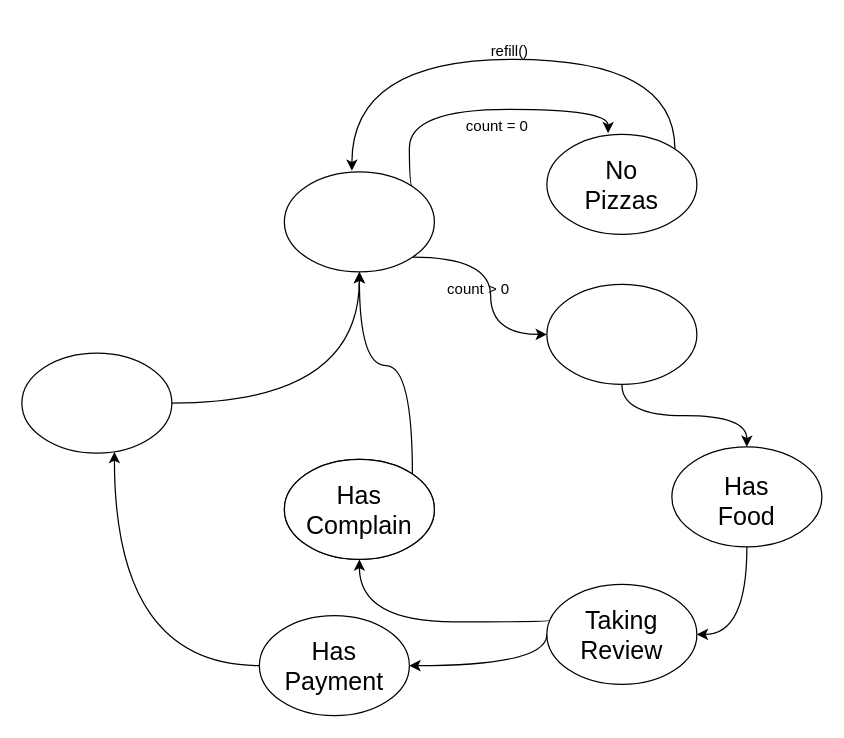
This 844x738 diagram has some shape labels left out. The shapes that lost their labels are listed below. From the top down, each one's centre as x and y in pixels, then its label:
At (x=358, y=221): "Taking Order".
At (x=621, y=333): "Has Order".
At (x=96, y=402): "Idle".
